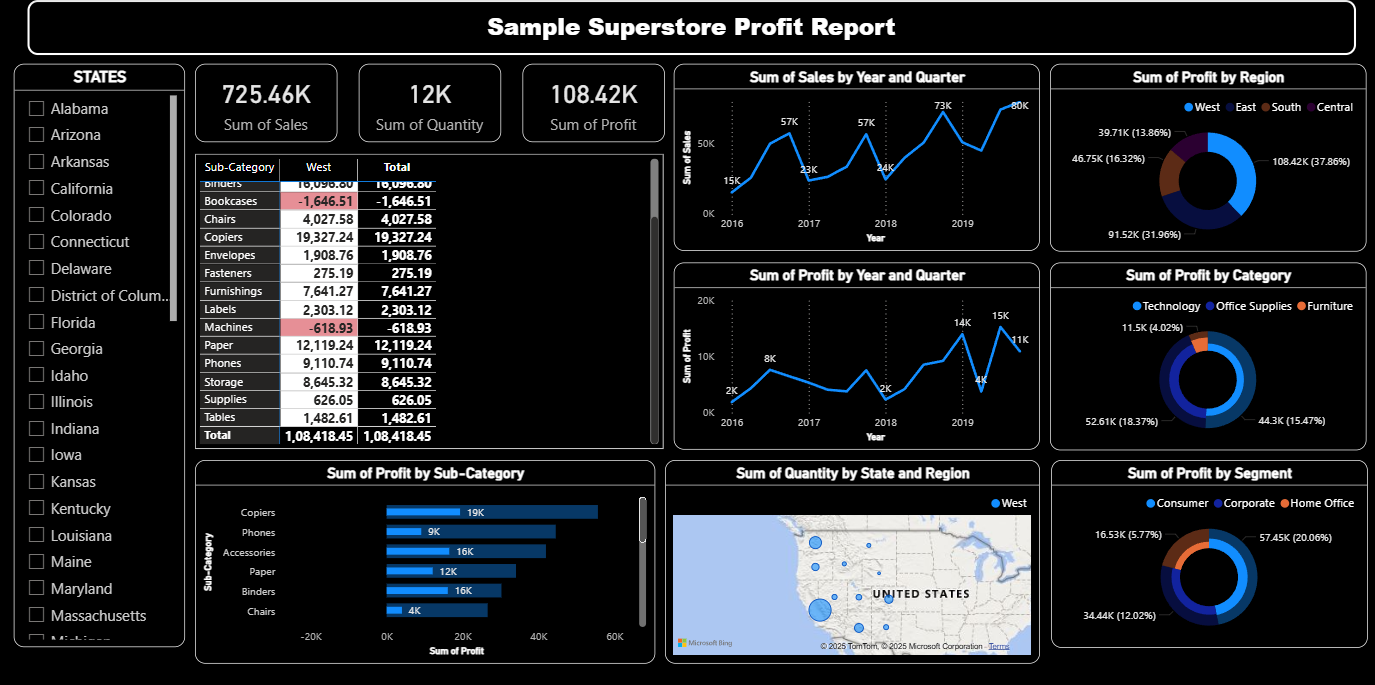

Layout of this report page (visuals, bound fields, positions):
{"tool":"powerbi","page":{"name":"Page 1","canvas":[1600,800],"ordinal":0},"visuals":[{"type":"textbox","box":[32,0,1545.1,64],"z":0},{"type":"donutChart","fields":{"Category":["Orders.Region"],"Y":["Sum(Orders.Profit)"]},"box":[1220.9,74.1,367.7,218],"z":1},{"type":"donutChart","fields":{"Y":["Sum(Orders.Profit)"],"Category":["Orders.Category"]},"box":[1220.9,305.2,367.7,218],"z":2},{"type":"donutChart","fields":{"Y":["Sum(Orders.Profit)"],"Category":["Orders.Segment"]},"box":[1222.4,534.9,367.7,218],"z":3},{"type":"lineChart","fields":{"Category":["Orders.Order Date.Variation.Date Hierarchy.Year","Orders.Order Date.Variation.Date Hierarchy.Quarter"],"Y":["Sum(Orders.Sales)"]},"box":[783.9,74.2,425.8,217.7],"z":4},{"type":"barChart","fields":{"Category":["Orders.Sub-Category"],"Y":["Sum(Orders.Profit)"]},"box":[226.7,534.9,534.9,236.9],"z":5},{"type":"card","fields":{"Values":["Sum(Orders.Sales)"]},"box":[226.7,74.1,165.7,91.6],"z":6},{"type":"card","fields":{"Values":["Sum(Orders.Profit)"]},"box":[607.6,74.1,165.7,91.6],"z":7},{"type":"card","fields":{"Values":["Sum(Orders.Quantity)"]},"box":[417.2,74.1,165.7,91.6],"z":8},{"type":"pivotTable","fields":{"Rows":["Orders.Sub-Category"],"Columns":["Orders.Region"],"Values":["Sum(Orders.Profit)"]},"box":[227.4,179,545.2,343.5],"z":9},{"type":"slicer","title":"STATES","fields":{"Values":["Orders.State"]},"box":[16,74.1,199.1,678.8],"z":10},{"type":"lineChart","fields":{"Category":["Orders.Order Date.Variation.Date Hierarchy.Year","Orders.Order Date.Variation.Date Hierarchy.Quarter"],"Y":["Sum(Orders.Profit)"]},"box":[783.9,304.8,425.8,217.7],"z":11},{"type":"map","fields":{"Series":["Orders.Region"],"Category":["Orders.State"],"Size":["Sum(Orders.Quantity)"]},"box":[773.3,534.9,436,236.9],"z":12}]}

Visuals, with their boxes in screenshot pixels (x1, y1, x2, y2), scaled from the page's 1600x800 canvas onto the 1375x685 screenshot:
textbox: {"left": 28, "top": 0, "right": 1355, "bottom": 55}
donutChart - Orders.Region x Sum(Orders.Profit): {"left": 1049, "top": 63, "right": 1365, "bottom": 250}
donutChart - Sum(Orders.Profit) x Orders.Category: {"left": 1049, "top": 261, "right": 1365, "bottom": 448}
donutChart - Sum(Orders.Profit) x Orders.Segment: {"left": 1050, "top": 458, "right": 1366, "bottom": 645}
lineChart - Orders.Order Date.Variation.Date Hierarchy.Year x Orders.Order Date.Variation.Date Hierarchy.Quarter: {"left": 674, "top": 64, "right": 1040, "bottom": 250}
barChart - Orders.Sub-Category x Sum(Orders.Profit): {"left": 195, "top": 458, "right": 654, "bottom": 661}
card - Sum(Orders.Sales): {"left": 195, "top": 63, "right": 337, "bottom": 142}
card - Sum(Orders.Profit): {"left": 522, "top": 63, "right": 665, "bottom": 142}
card - Sum(Orders.Quantity): {"left": 359, "top": 63, "right": 501, "bottom": 142}
pivotTable - Orders.Sub-Category x Orders.Region: {"left": 195, "top": 153, "right": 664, "bottom": 447}
"STATES" slicer: {"left": 14, "top": 63, "right": 185, "bottom": 645}
lineChart - Orders.Order Date.Variation.Date Hierarchy.Year x Orders.Order Date.Variation.Date Hierarchy.Quarter: {"left": 674, "top": 261, "right": 1040, "bottom": 447}
map - Orders.Region x Orders.State: {"left": 665, "top": 458, "right": 1039, "bottom": 661}
